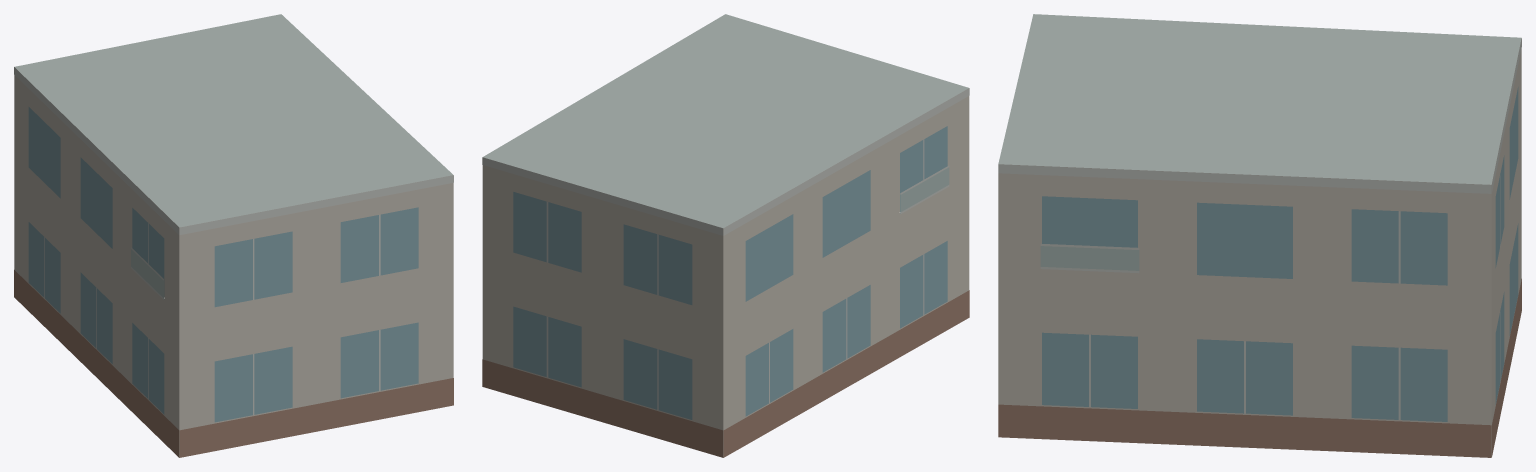
File: survey-upis-32499408.glb
The picture shows the model from 3 angles, left to right: view 1: azimuth 30°, elevation 25°; view 2: azimuth 150°, elevation 25°; view 3: azimuth 270°, elevation 25°; orthographic projection. The views are drawn at different scales.
Parts seen in each view (by area): view 1: survey-upis-32499408.tmp; view 2: survey-upis-32499408.tmp; view 3: survey-upis-32499408.tmp.
Boxes of the visible parts, <box> form: survey-upis-32499408.tmp: <box>14,14,453,457</box>; survey-upis-32499408.tmp: <box>482,14,969,457</box>; survey-upis-32499408.tmp: <box>998,14,1521,457</box>.
Size of the model in its own units: 9.81 by 7.3 by 12.7.
